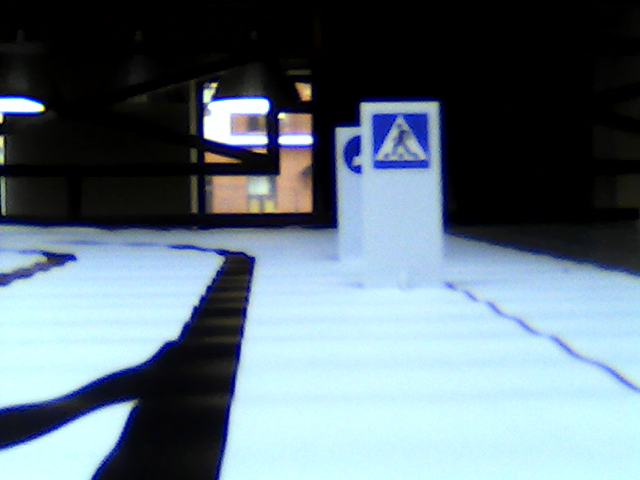pesh: (372, 113, 428, 169)
